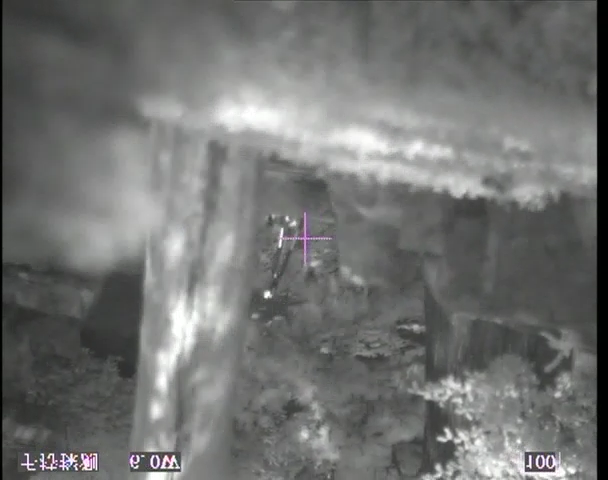my: (263, 290, 272, 299)
